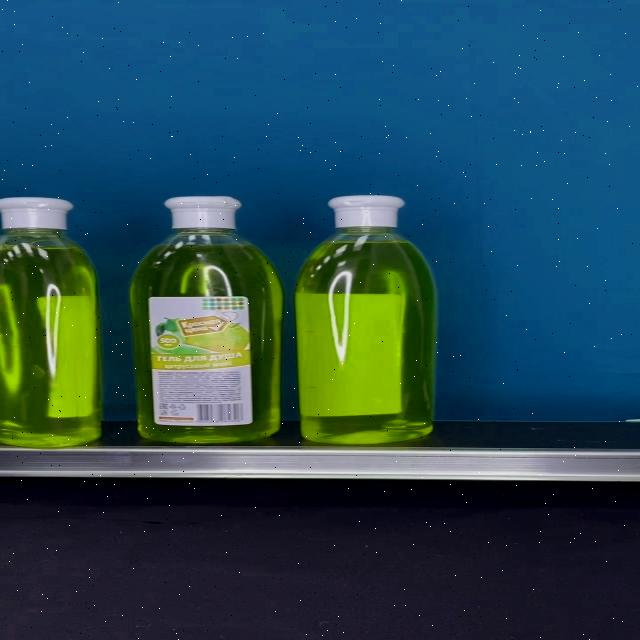Bottle: (130, 195, 282, 442), (296, 195, 434, 443)
Cap: (327, 195, 406, 229), (164, 196, 244, 228)
